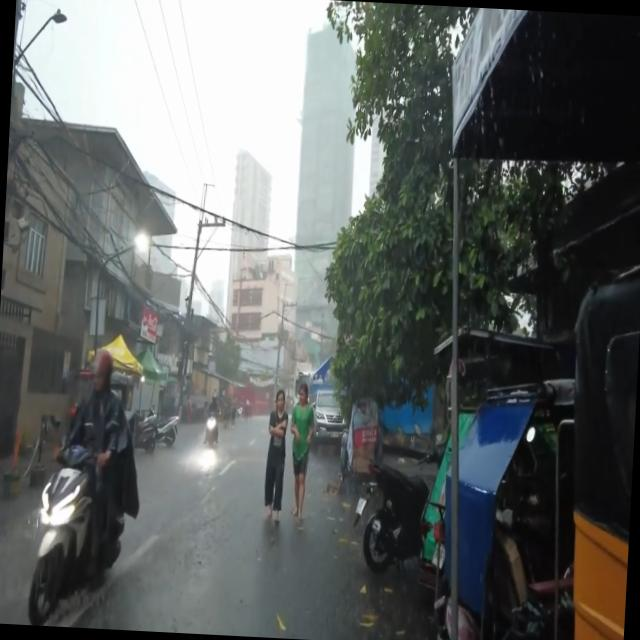half: (90, 346, 114, 396)
